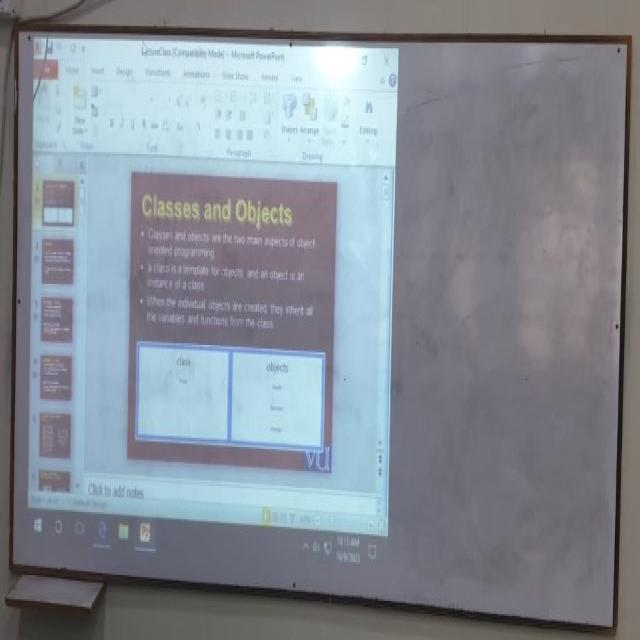Slide: (27, 32, 399, 568)
White-board: (11, 29, 629, 629)
